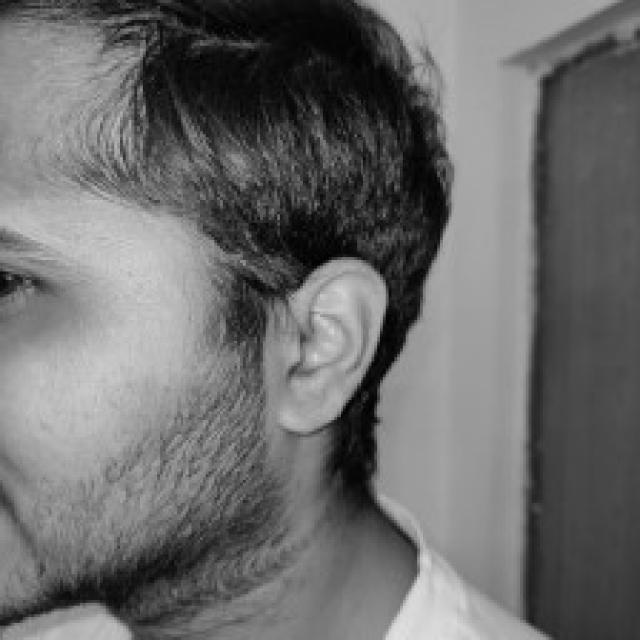ear: (271, 257, 386, 431)
